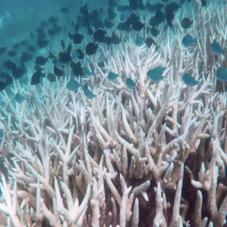bleached_corals: (0, 5, 227, 227)
